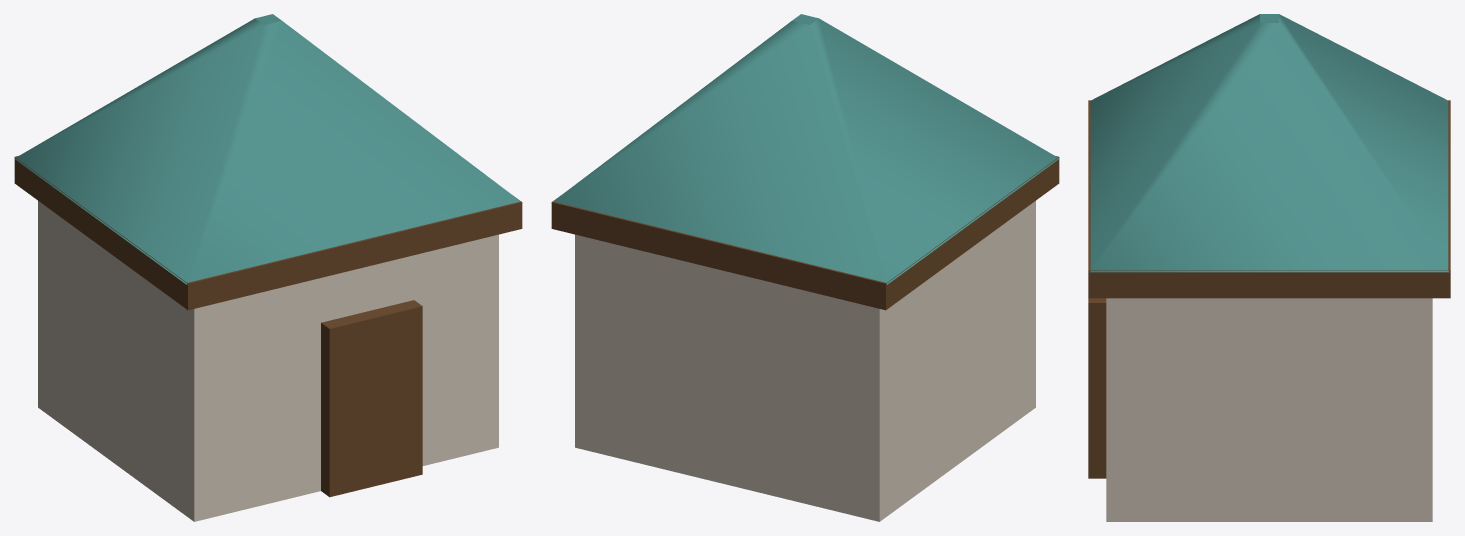
The model's file is house-standin-b.glb.
3 views of the same model, side by side, from view 1: azimuth 30°, elevation 25°; view 2: azimuth 150°, elevation 25°; view 3: azimuth 270°, elevation 25° (orthographic). The views are drawn at different scales.
Visible parts, largest first — view 1: plaster, roof, wooddark; view 2: plaster, roof, wooddark; view 3: roof, plaster, wooddark.
Boxes of the visible parts, x1,y1,x2,y2 form: plaster: (38, 201, 498, 521); roof: (14, 14, 520, 284); wooddark: (14, 156, 522, 497); plaster: (575, 201, 1035, 521); roof: (553, 14, 1059, 284); wooddark: (551, 156, 1059, 310); roof: (1089, 14, 1449, 272); plaster: (1106, 298, 1432, 521); wooddark: (1088, 100, 1450, 478).
Size of the model in its own units: 3.97 by 4.61 by 3.55.
